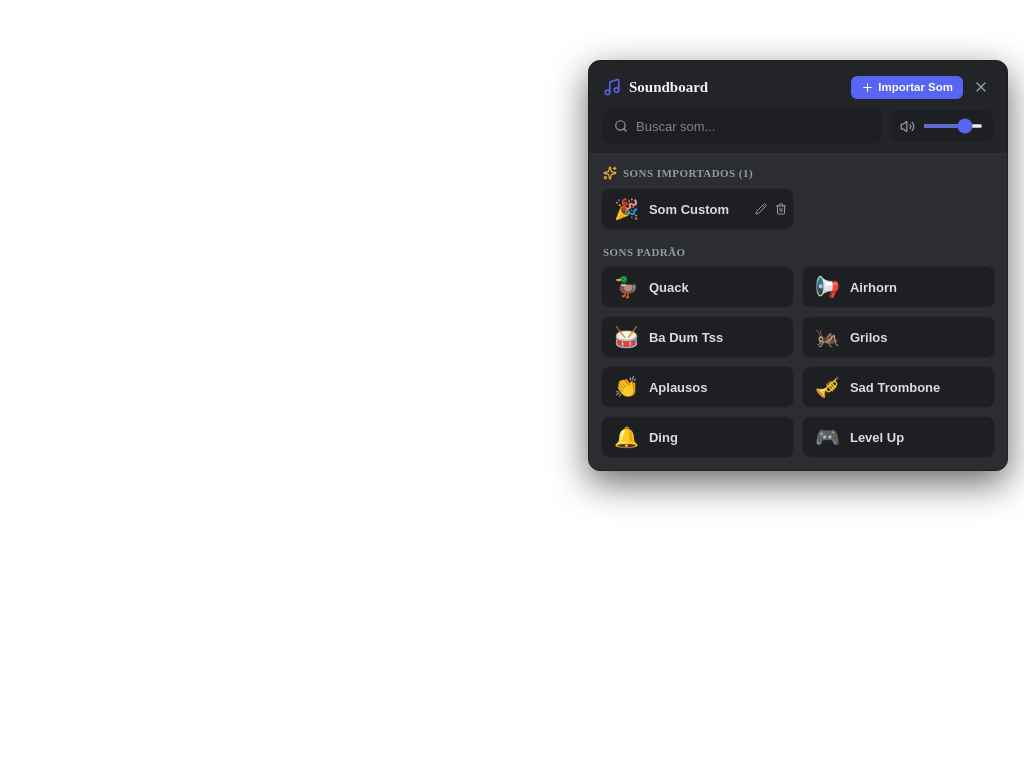
Test: SoundboardPopover - Importar e Excluir Sons › exibe popup de confirmação centralizado ao excluir um som importado e remove após confirmar
Later steps or results of the test are not shown.
Clica na lixeira do som importado
Click the button with test id "soundboard-delete-btn-55". click: click(781, 209)
box: [772,200,790,218]
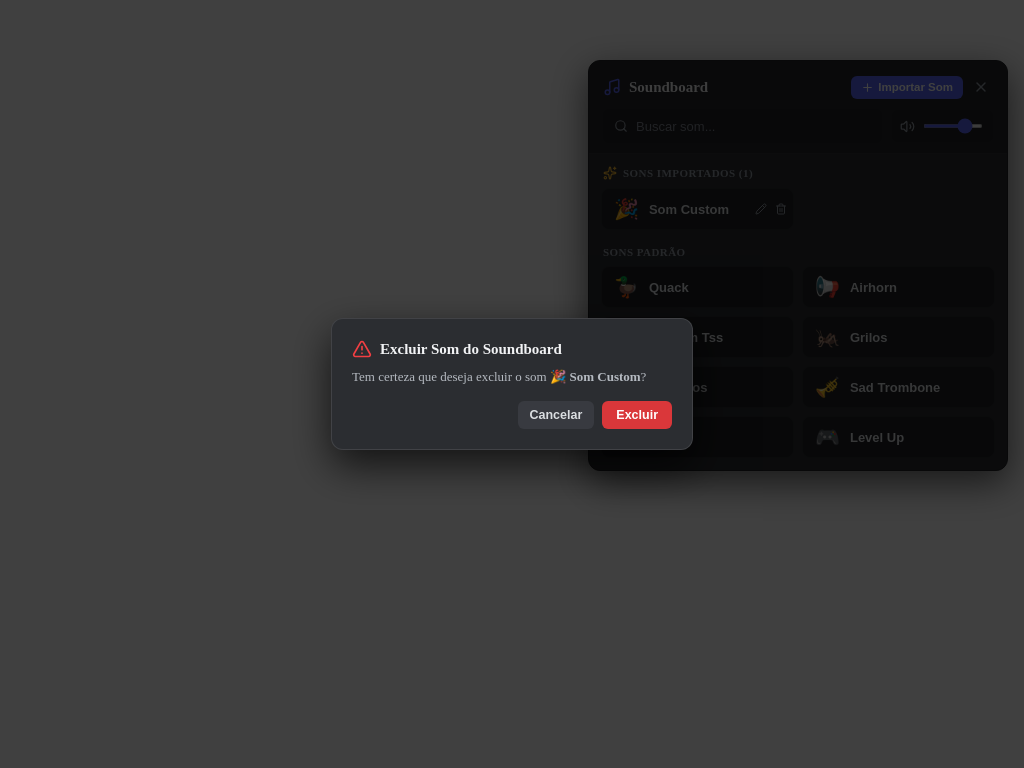
Now the element with test id "soundboard-popover-delete-backdrop" is shown
Now the element with test id "soundboard-popover-delete-modal" is shown, box [331,318,693,450]
